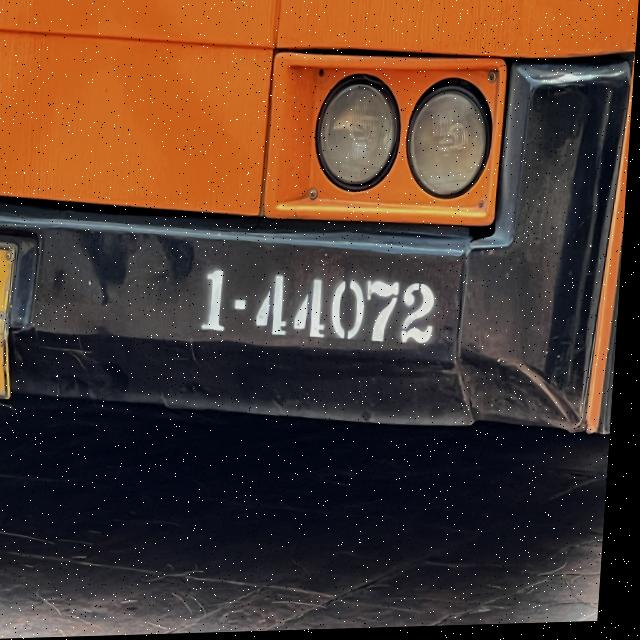BMTA-bus: (0, 0, 640, 476)
Bus Side Number: (184, 248, 463, 370)
